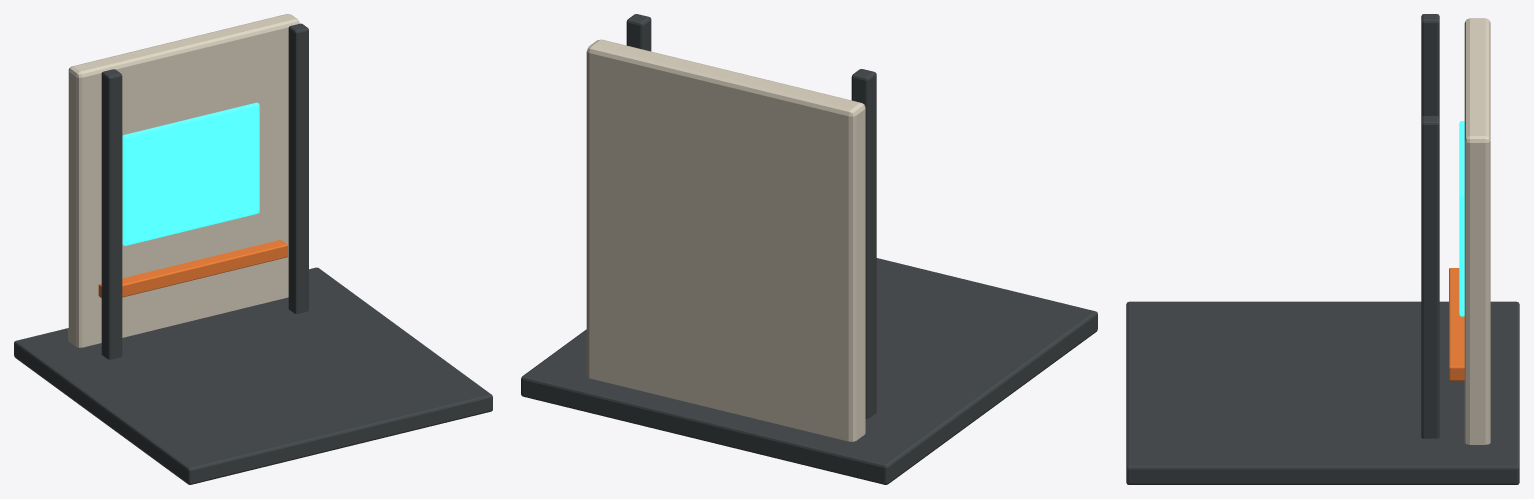
Rendered from structure_angled_bay.glb.
The picture shows the model from 3 angles, left to right: view 1: azimuth 30°, elevation 25°; view 2: azimuth 150°, elevation 25°; view 3: azimuth 270°, elevation 25°; orthographic projection. The views are drawn at different scales.
Visible parts, largest first — view 1: Bay floor, Angled bay facade, Bay window, Bay side brace, Bay side brace.001, Bay sill; view 2: Angled bay facade, Bay floor, Bay side brace, Bay side brace.001; view 3: Bay floor, Angled bay facade, Bay side brace.001, Bay side brace, Bay sill, Bay window.
Boxes of the visible parts, <box> form: Bay floor: <box>14,267,492,484</box>; Angled bay facade: <box>68,14,299,347</box>; Bay window: <box>122,102,259,245</box>; Bay side brace: <box>101,69,122,359</box>; Bay side brace.001: <box>288,23,308,313</box>; Bay sill: <box>98,240,287,297</box>; Angled bay facade: <box>586,39,865,441</box>; Bay floor: <box>521,258,1097,484</box>; Bay side brace: <box>851,69,876,418</box>; Bay side brace.001: <box>626,14,651,51</box>; Bay floor: <box>1126,301,1519,484</box>; Angled bay facade: <box>1464,18,1490,444</box>; Bay side brace.001: <box>1421,116,1439,438</box>; Bay side brace: <box>1421,14,1439,117</box>; Bay sill: <box>1449,268,1464,380</box>; Bay window: <box>1459,121,1464,316</box>.
Size of the model in its own units: 3 by 2.82 by 3.
